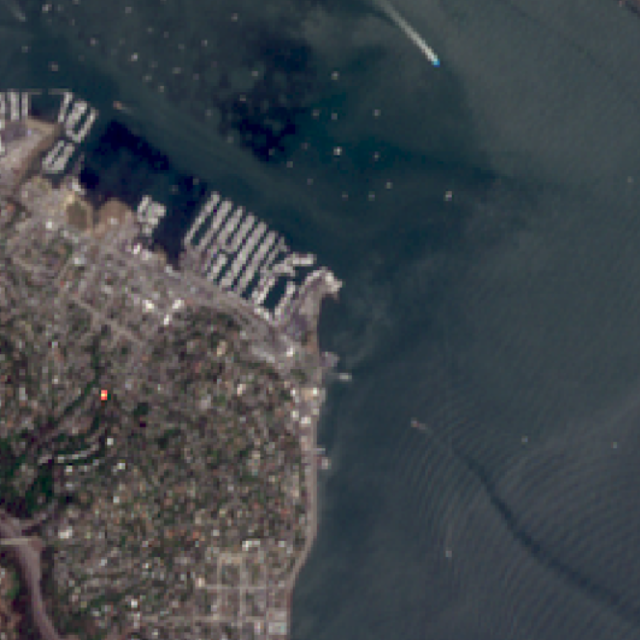wake: (345, 353, 623, 607)
